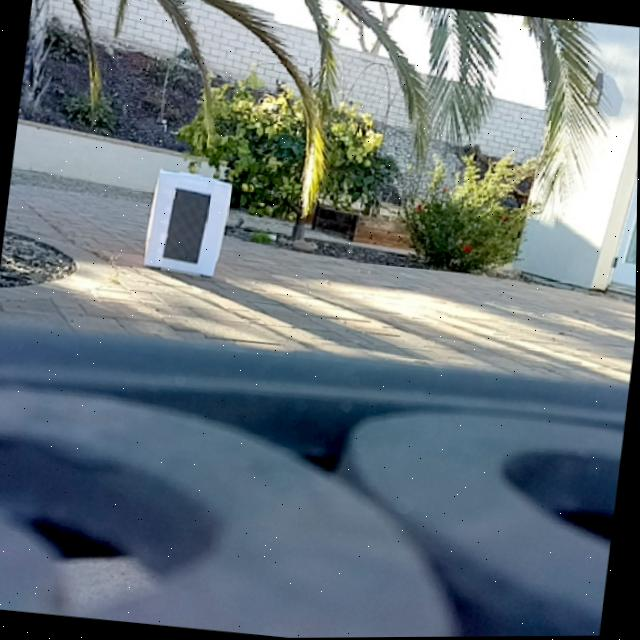led: (165, 187, 211, 266)
